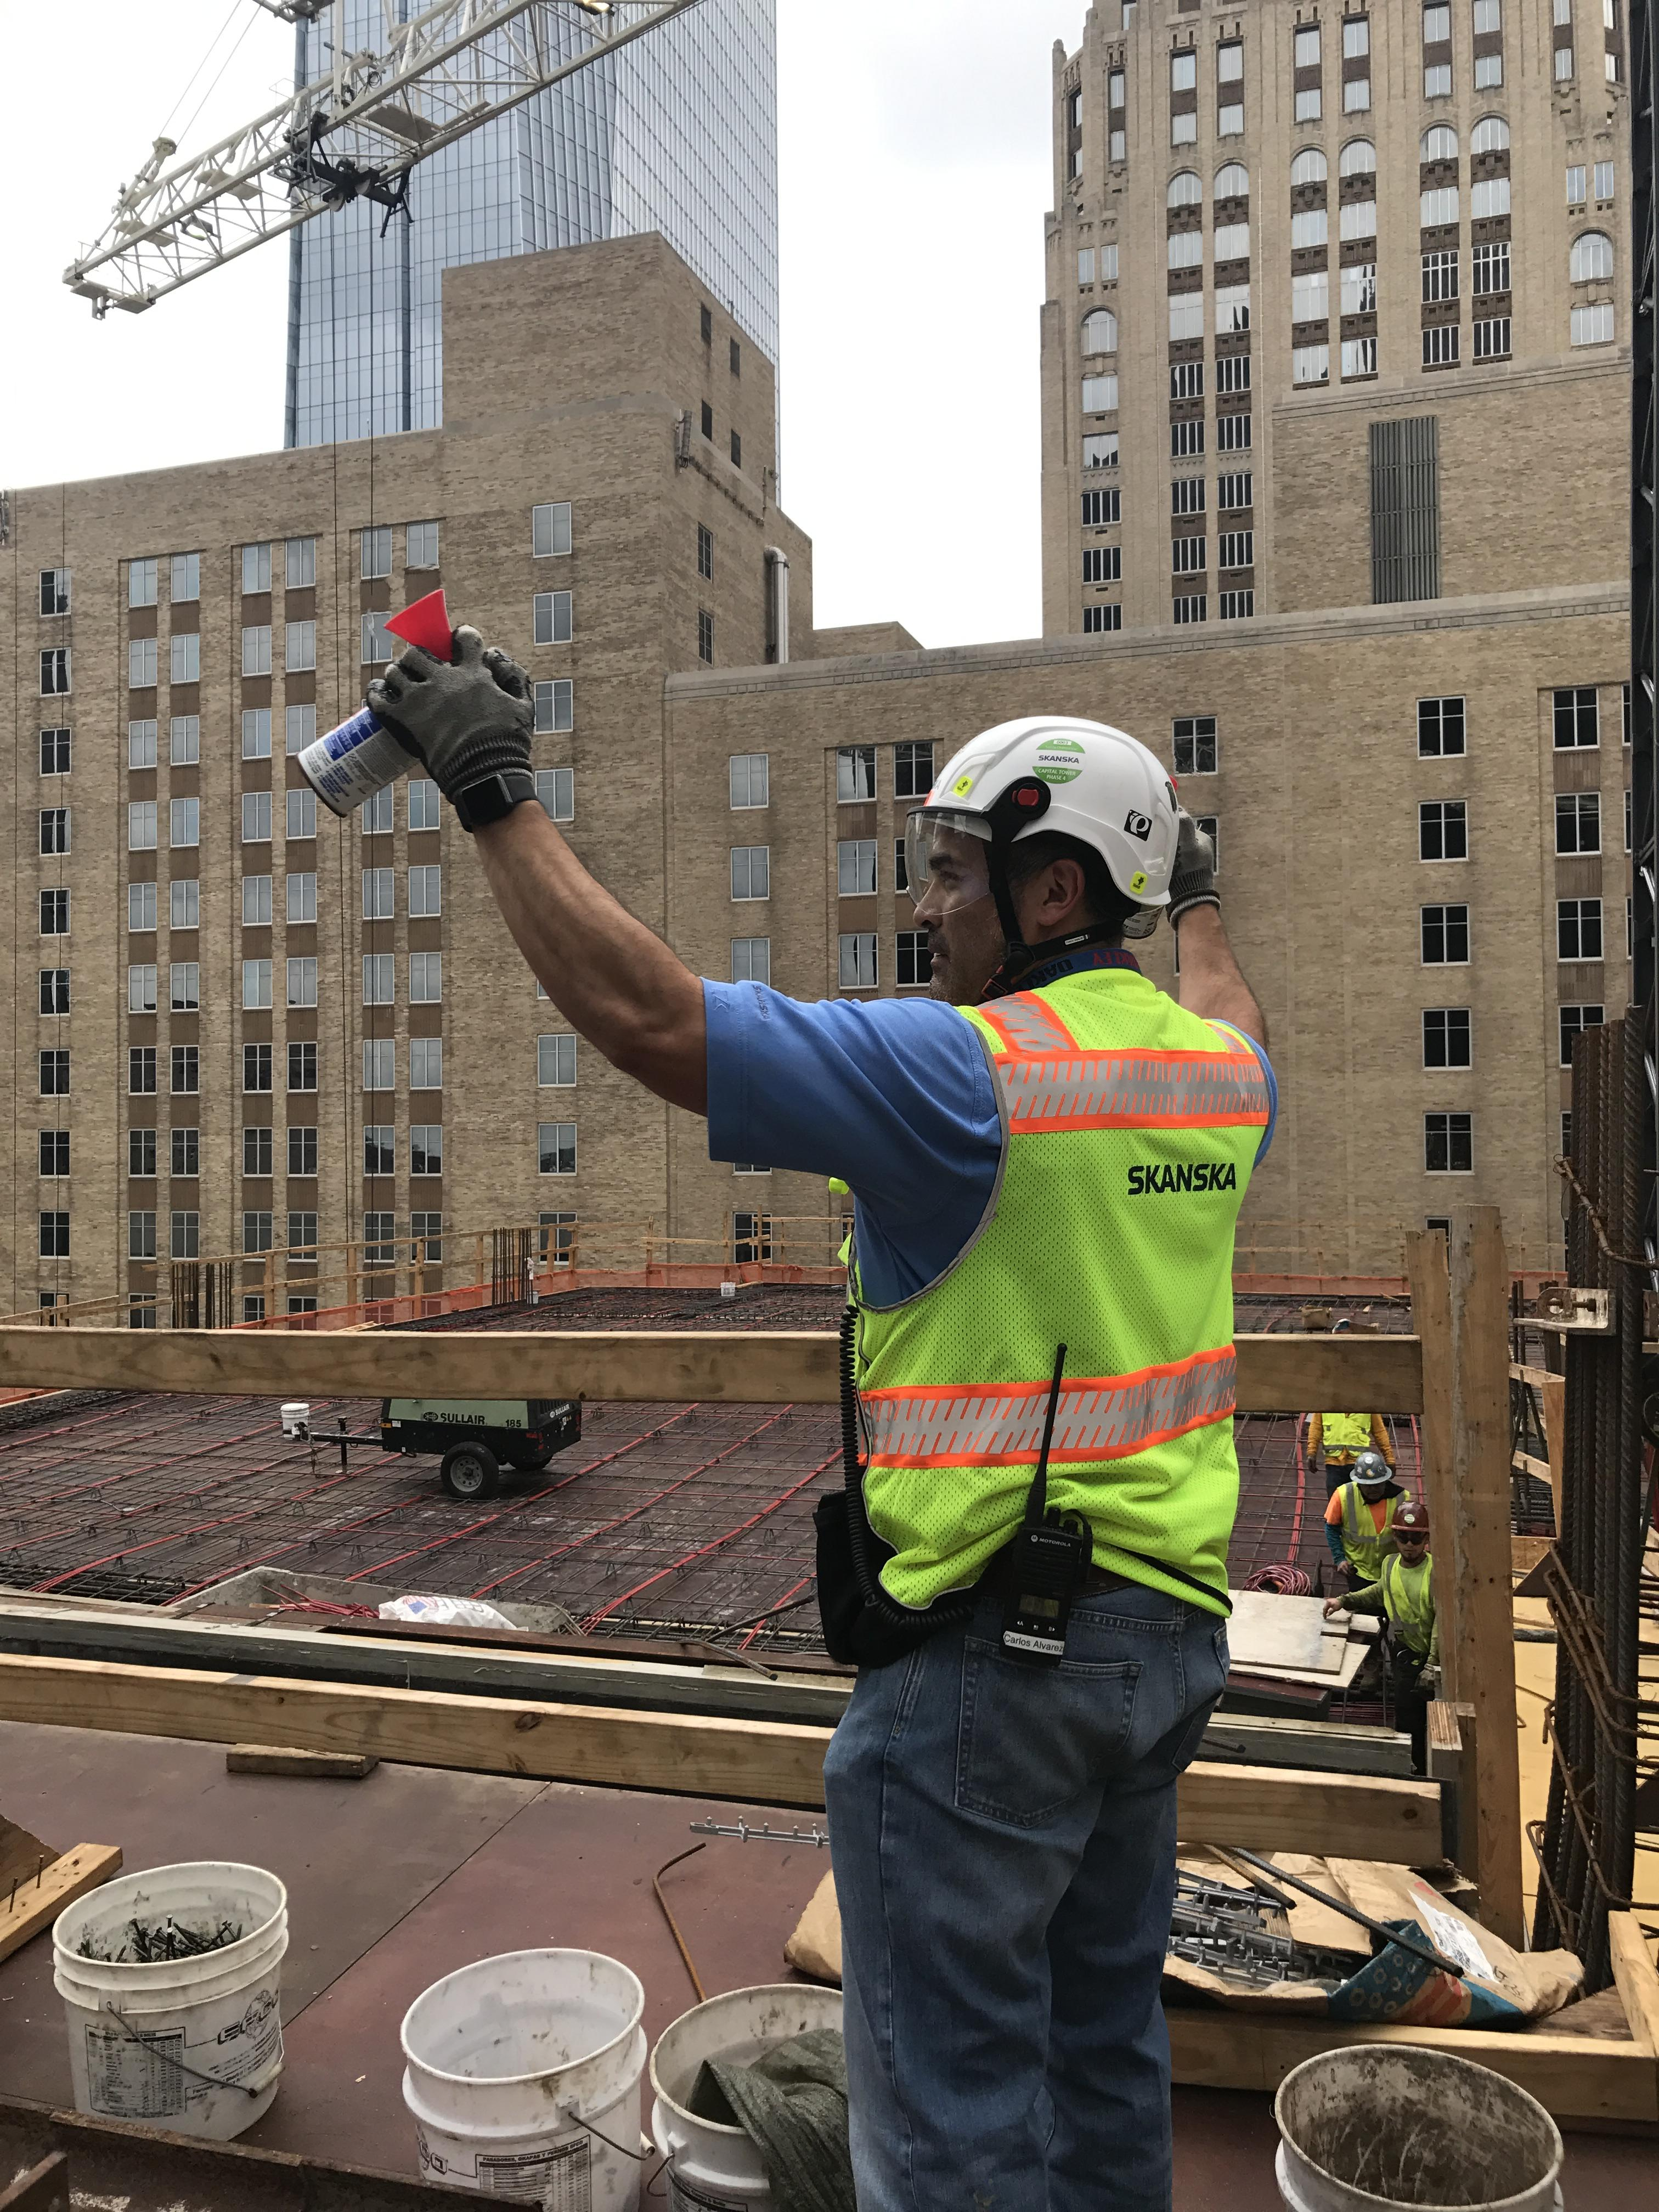helmet: (892, 688, 1246, 951)
